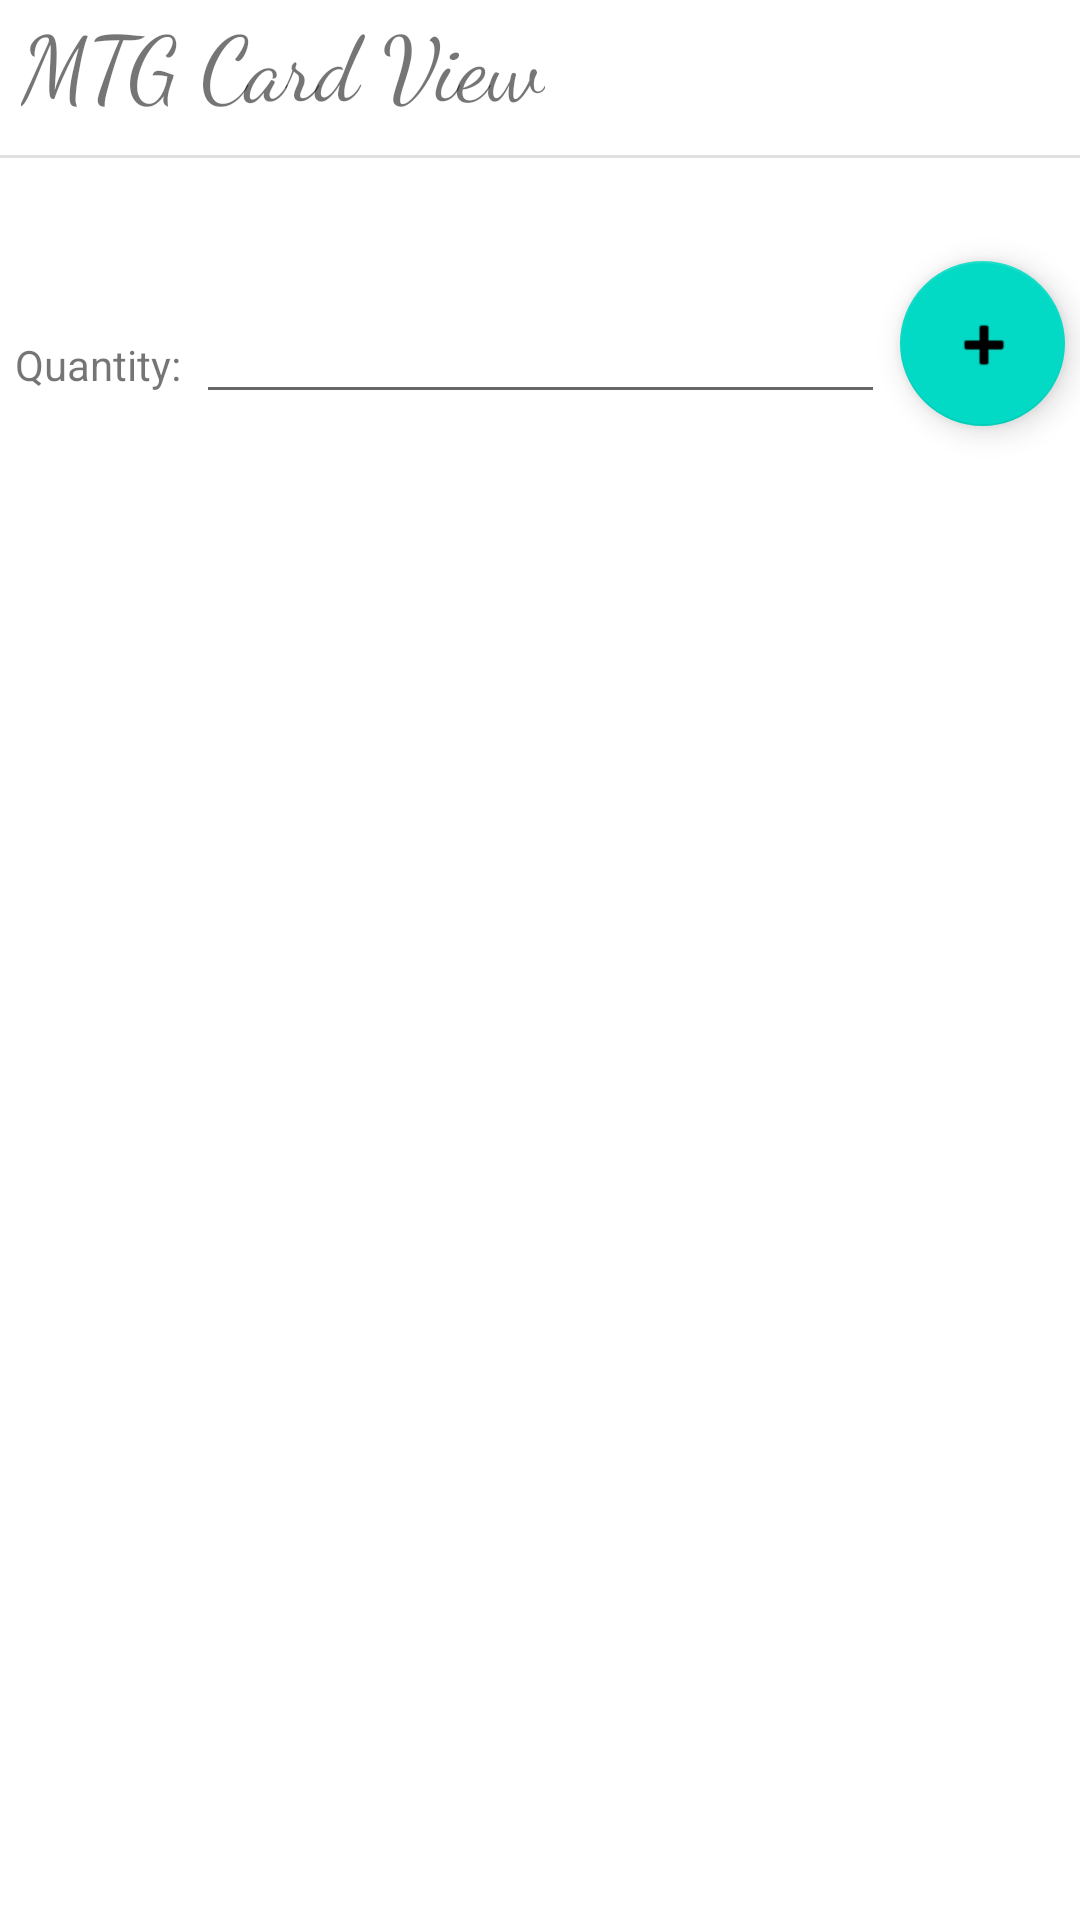

Icon bounding boxes for this 1080w x 1920h phone screenshot, format (x1, y1, x2, y2):
add: (900, 261, 1065, 426)
